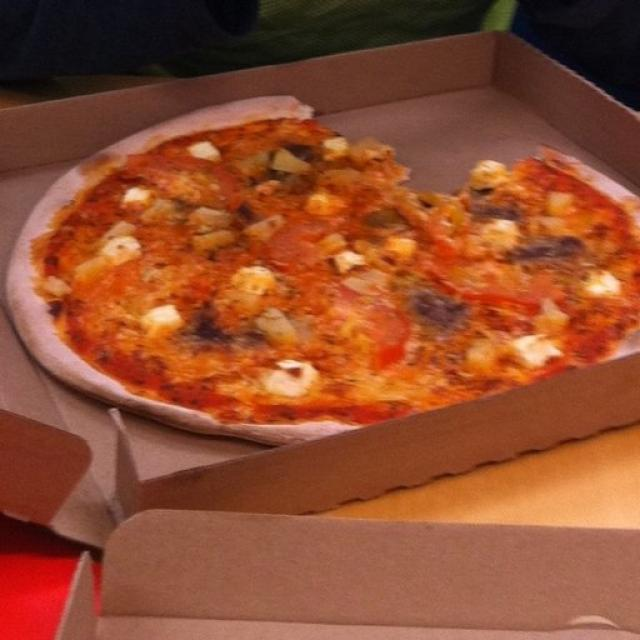Cheese: (263, 353, 320, 401), (505, 328, 558, 367), (92, 239, 152, 268), (475, 210, 523, 240), (585, 264, 621, 302), (188, 136, 229, 164), (468, 153, 504, 180), (114, 183, 153, 206)
Pineapple: (5, 95, 640, 449), (313, 227, 365, 272), (246, 203, 287, 245), (268, 143, 307, 182), (255, 314, 297, 346), (74, 258, 116, 288), (385, 233, 420, 256)
Pizza: (189, 203, 236, 259)
